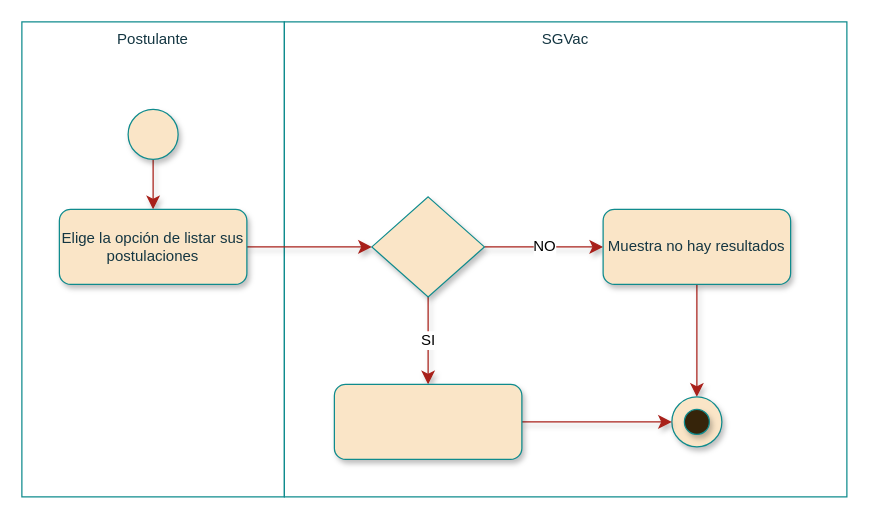
Image size: 869x519. Some labels were removed from this diagram. The shapes that lost their labels are listed below. From the top down, each one's centre as x and y in pixels, then its label:
At (x=429, y=248): "Hay resultados ?".
At (x=428, y=423): "Lista las postulaciones".
